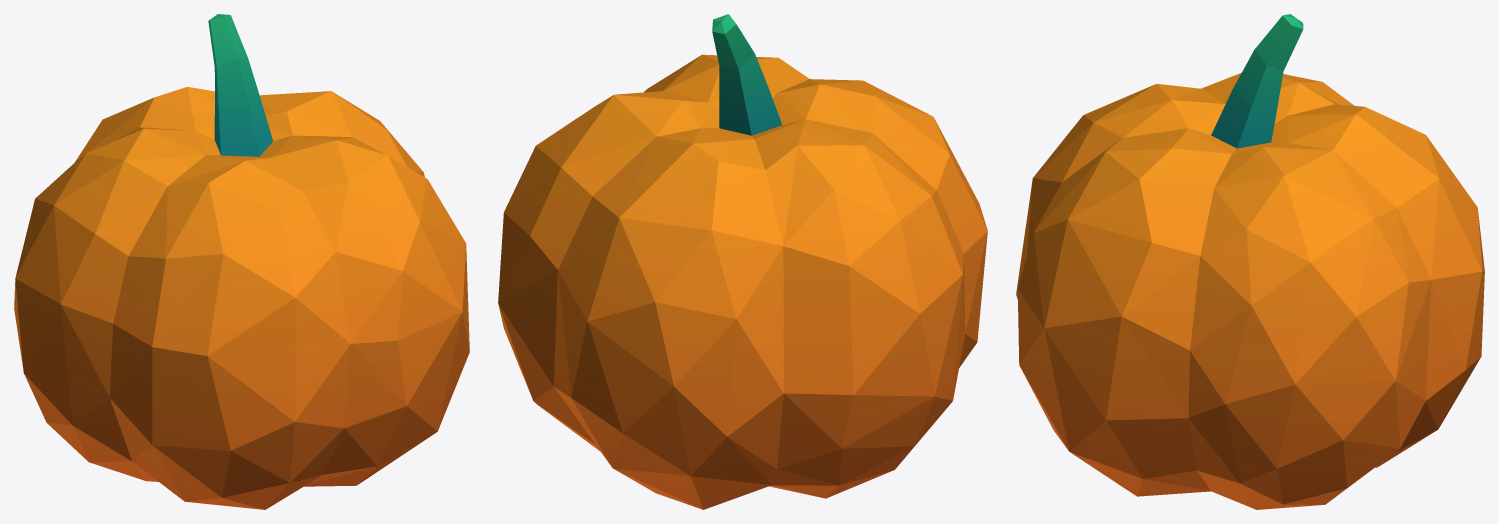
Rendered from pumpkin.glb.
3 renders of one model, left to right at view 1: azimuth 30°, elevation 25°; view 2: azimuth 150°, elevation 25°; view 3: azimuth 270°, elevation 25°, orthographic. The views are drawn at different scales.
Visible parts, largest first — view 1: pumpkin; view 2: pumpkin; view 3: pumpkin.
Part boxes in pixels (x1,y1,x2,y2): pumpkin: (14, 14, 469, 509); pumpkin: (498, 14, 987, 509); pumpkin: (1016, 14, 1484, 509).
Bounding box in the file's own units: 2.34 × 2.42 × 2.29.
1 material, 1 textured.
